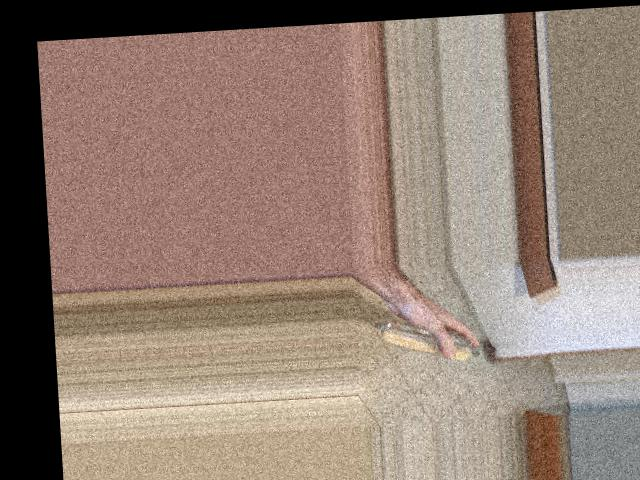cheese: (388, 291, 486, 377)
